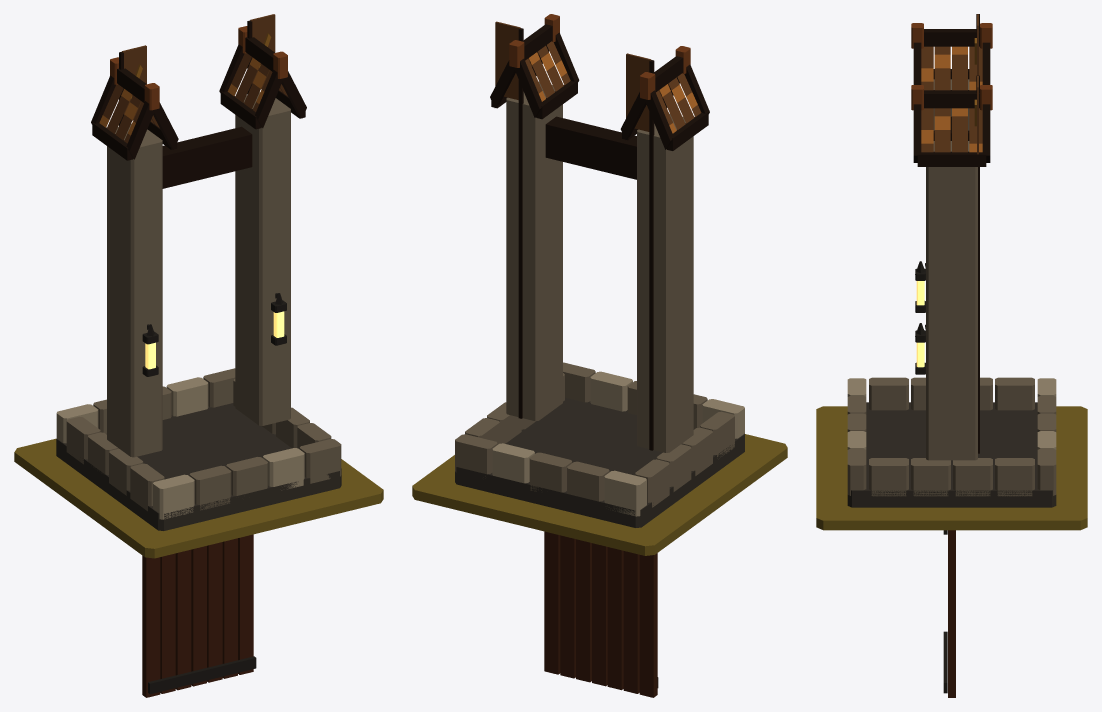
File: gate_t6.glb
3 views of the same model, side by side, from view 1: azimuth 30°, elevation 25°; view 2: azimuth 150°, elevation 25°; view 3: azimuth 270°, elevation 25° (orthographic). The views are drawn at different scales.
Parts seen in each view (by area): view 1: MMR | gate | T06 Architecture.001, MMR | gate | T06 Lift Gate.001, MMR | gate | Tier 06 Ground.001, MMR | gate | T06 Banner Flag 2.001, MMR | gate | T06 Banner Flag 1.001; view 2: MMR | gate | T06 Architecture.001, MMR | gate | T06 Lift Gate.001, MMR | gate | Tier 06 Ground.001, MMR | gate | T06 Banner Flag 2.001, MMR | gate | T06 Banner Flag 1.001; view 3: MMR | gate | T06 Architecture.001, MMR | gate | Tier 06 Ground.001, MMR | gate | T06 Lift Gate.001.
Part boxes in pixels (x1,y1,x2,y2): MMR | gate | T06 Architecture.001: [56, 20, 341, 530]; MMR | gate | T06 Lift Gate.001: [142, 534, 256, 697]; MMR | gate | Tier 06 Ground.001: [14, 438, 383, 558]; MMR | gate | T06 Banner Flag 2.001: [250, 14, 275, 88]; MMR | gate | T06 Banner Flag 1.001: [122, 45, 146, 120]; MMR | gate | T06 Architecture.001: [455, 14, 744, 527]; MMR | gate | T06 Lift Gate.001: [544, 531, 658, 697]; MMR | gate | Tier 06 Ground.001: [412, 434, 787, 555]; MMR | gate | T06 Banner Flag 2.001: [495, 21, 520, 99]; MMR | gate | T06 Banner Flag 1.001: [626, 53, 651, 131]; MMR | gate | T06 Architecture.001: [847, 14, 1056, 507]; MMR | gate | Tier 06 Ground.001: [816, 406, 1087, 530]; MMR | gate | T06 Lift Gate.001: [943, 530, 955, 697].
Bounding box in the file's own units: 1.3 × 3.32 × 1.3.
Materials: 2 (1 with a texture image).
